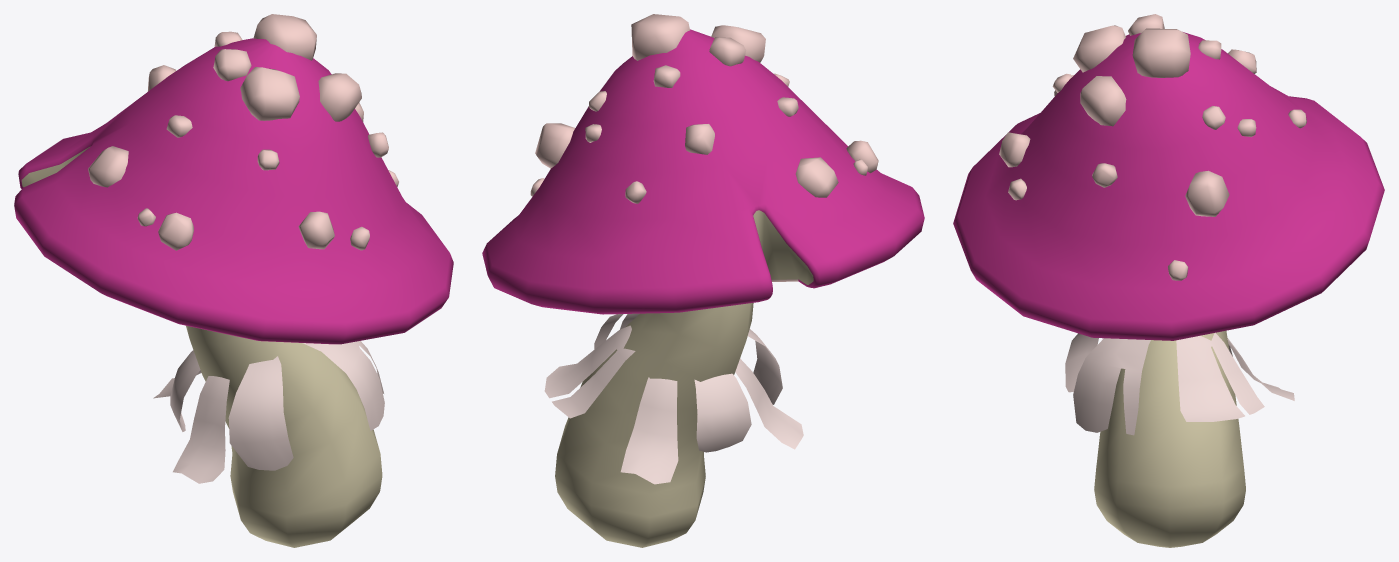
The model's file is mushroom_new.fbx.
The picture shows the model from 3 angles, left to right: view 1: azimuth 30°, elevation 25°; view 2: azimuth 150°, elevation 25°; view 3: azimuth 270°, elevation 25°; orthographic projection. The views are drawn at different scales.
Parts seen in each view (by area): view 1: cap, stem, Cube.008, BézierCurve.002, BezierCurve.013, BezierCurve.012, BezierCurve.010; view 2: cap, stem, Cube.008, BezierCurve.014, BezierCurve.011, BezierCurve.010, BezierCurve.013, BézierCurve.002; view 3: cap, stem, Cube.008, BezierCurve.011, BezierCurve.012, BézierCurve.002.
Part boxes in pixels (x1,y1,x2,y2): cap: (14,38,453,344); stem: (186,325,382,547); Cube.008: (88,14,398,250); BézierCurve.002: (228,356,293,470); BezierCurve.013: (173,376,229,483); BezierCurve.012: (302,341,384,430); BezierCurve.010: (170,350,200,431); cap: (482,29,924,314); stem: (555,303,753,547); Cube.008: (530,14,878,203); BezierCurve.014: (620,377,678,484); BezierCurve.011: (544,325,635,418); BezierCurve.010: (694,373,751,452); BezierCurve.013: (735,358,803,449); BézierCurve.002: (747,329,782,404); cap: (953,32,1384,340); stem: (1094,330,1245,547); Cube.008: (999,14,1306,280); BezierCurve.011: (1176,332,1264,421); BezierCurve.012: (1073,338,1150,435); BézierCurve.002: (1065,333,1098,392).
Bounding box in the file's own units: 200 × 260 × 203.
Materials: 1 (1 with a texture image).
